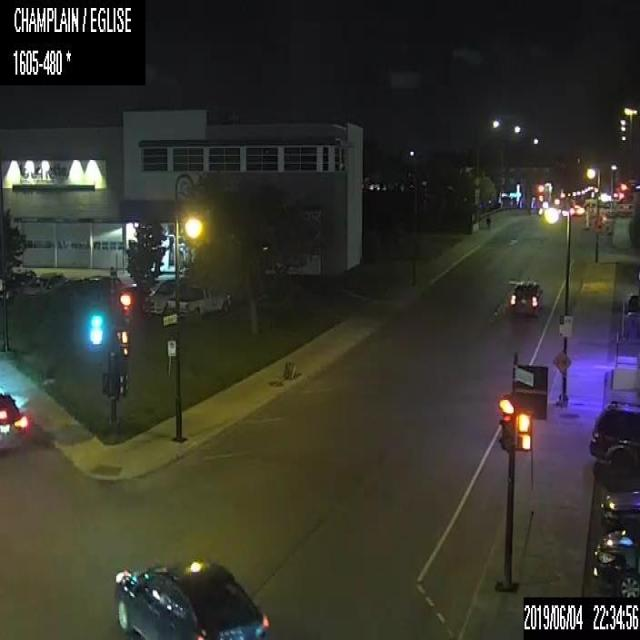construction: (552, 346, 570, 406), (268, 360, 296, 390), (591, 215, 604, 233)
pedestrian: (485, 213, 490, 229)
vehicle: (115, 556, 269, 639), (588, 399, 639, 477), (592, 530, 639, 596), (166, 285, 231, 319), (601, 488, 639, 530), (0, 390, 27, 442), (142, 277, 180, 313), (508, 278, 543, 310), (83, 273, 122, 298), (22, 270, 65, 292), (7, 268, 35, 292), (132, 282, 154, 308)
